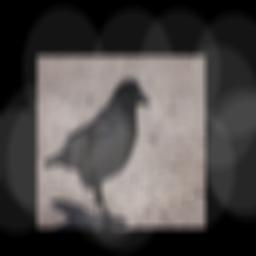Crow: (40, 70, 152, 224)
